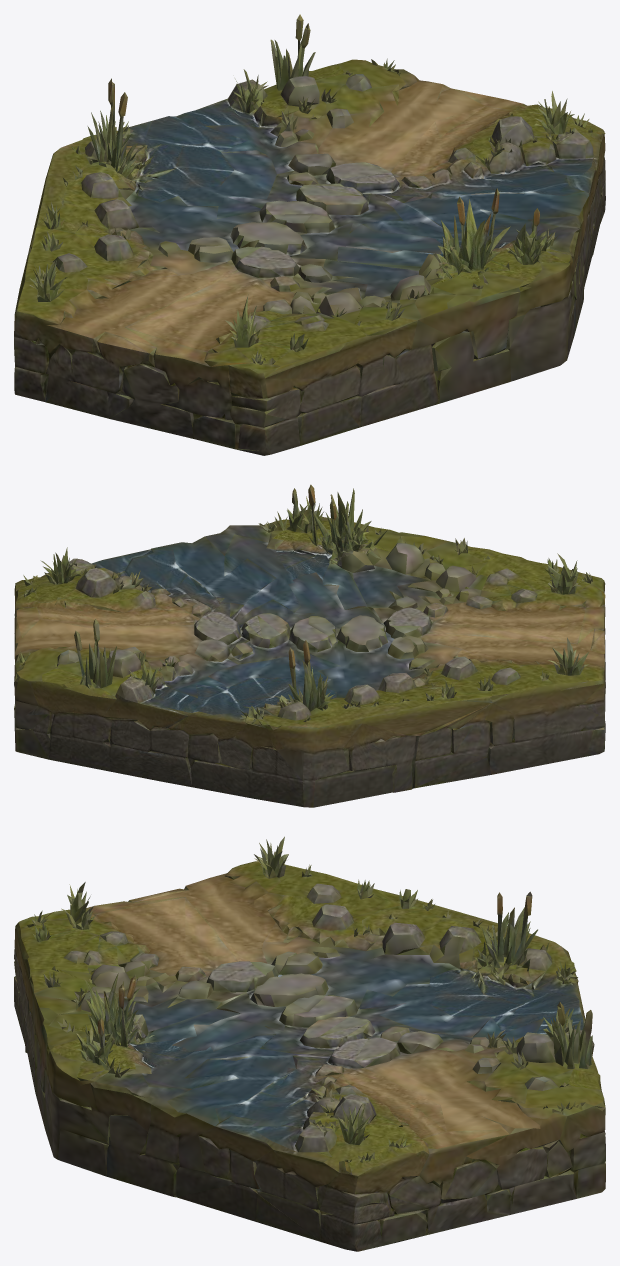
Rendered from ford.glb.
The picture shows the model from 3 angles, top to bottom: view 1: azimuth 30°, elevation 25°; view 2: azimuth 150°, elevation 25°; view 3: azimuth 270°, elevation 25°; orthographic projection. The views are drawn at different scales.
Size of the model in its own units: 2.23 by 0.5507 by 1.8.
1 material, 1 textured.
